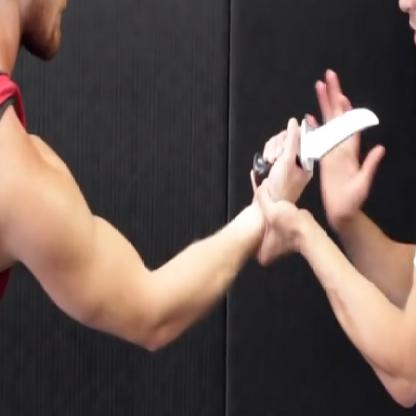knife: (244, 87, 385, 195)
